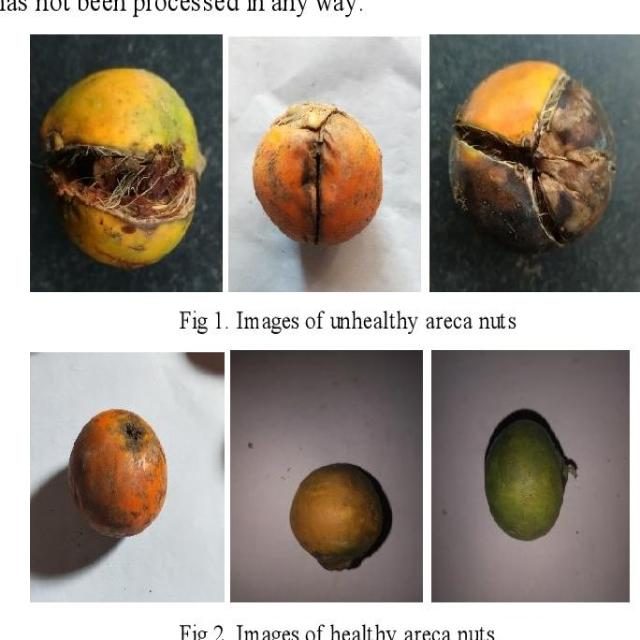damaged: (40, 68, 205, 266), (450, 62, 614, 250), (253, 102, 382, 245)
good: (68, 409, 167, 537), (290, 463, 391, 570), (485, 420, 567, 540)
